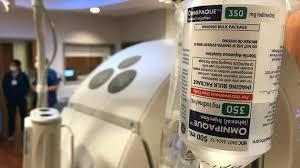Iv_Bottle: (179, 0, 287, 167)
Mask: (9, 65, 17, 71)
